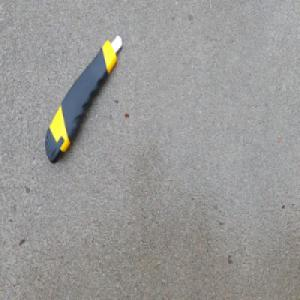Cutter: (45, 32, 125, 164)
